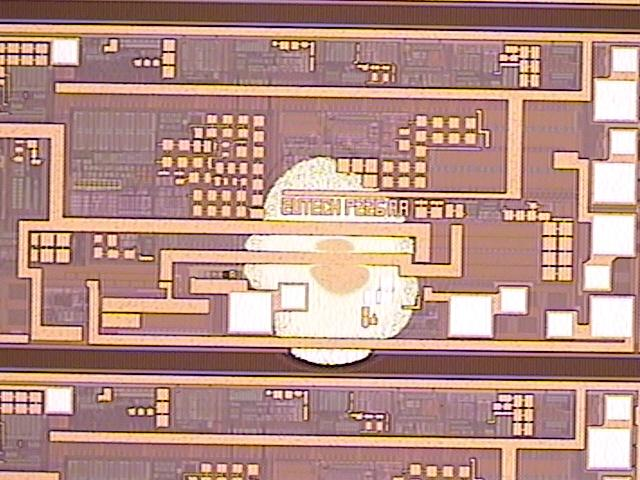BLOCK ETCH: (222, 127, 440, 381)
